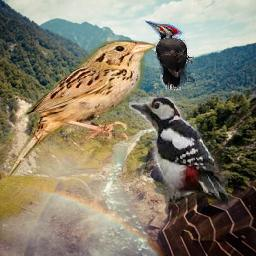Sparrow: (8, 41, 157, 178)
Woodpecker: (130, 97, 229, 205), (142, 20, 196, 90)
